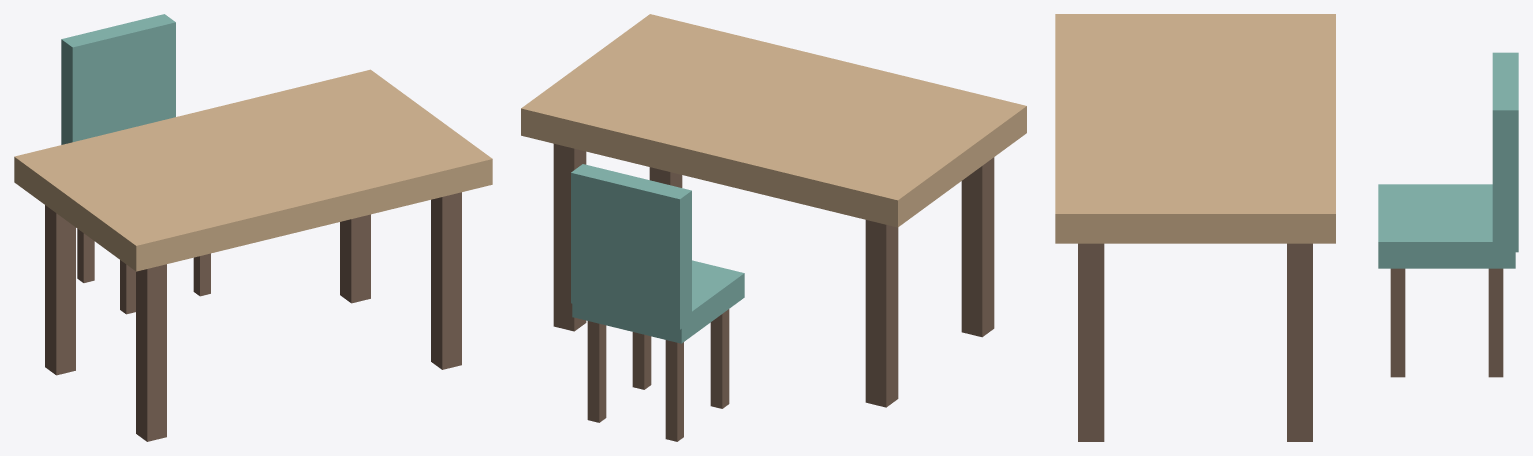
The model's file is dining_set.glb.
3 views of the same model, side by side, from view 1: azimuth 30°, elevation 25°; view 2: azimuth 150°, elevation 25°; view 3: azimuth 270°, elevation 25° (orthographic). The views are drawn at different scales.
Parts seen in each view (by area): view 1: part_0, part_6, part_1, part_3, part_2, part_4, part_8, part_7, part_9; view 2: part_0, part_6, part_2, part_1, part_5, part_4, part_10, part_8, part_7, part_9; view 3: part_0, part_5, part_3, part_4, part_6, part_9, part_10.
Part boxes in pixels (x1,y1,x2,y2): part_0: [14, 69, 492, 271]; part_6: [61, 14, 175, 144]; part_1: [136, 264, 166, 441]; part_3: [431, 192, 461, 369]; part_2: [45, 205, 75, 375]; part_4: [340, 214, 370, 303]; part_8: [77, 229, 94, 282]; part_7: [120, 260, 135, 314]; part_9: [193, 253, 210, 296]; part_0: [521, 14, 1026, 227]; part_6: [571, 164, 691, 329]; part_2: [865, 220, 898, 407]; part_1: [961, 157, 994, 337]; part_5: [572, 260, 744, 343]; part_4: [553, 143, 586, 331]; part_10: [587, 321, 606, 422]; part_8: [665, 340, 683, 441]; part_7: [710, 309, 729, 408]; part_9: [632, 332, 651, 389]; part_0: [1055, 14, 1335, 243]; part_5: [1378, 184, 1515, 268]; part_3: [1078, 243, 1104, 441]; part_4: [1287, 243, 1312, 441]; part_6: [1492, 52, 1518, 252]; part_9: [1390, 268, 1405, 377]; part_10: [1488, 268, 1503, 377].
Bounding box in the file's own units: 1.45 × 0.92 × 1.42.
